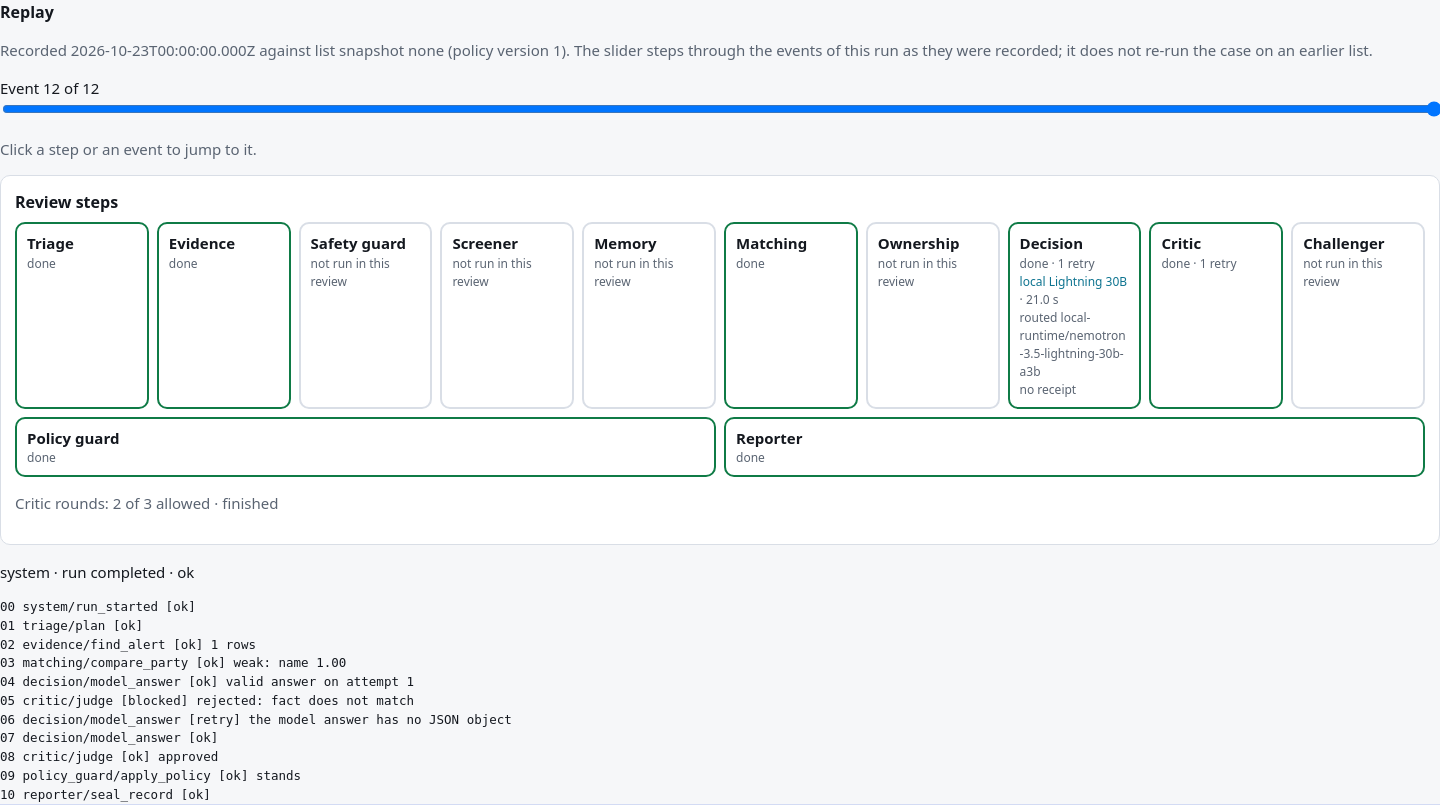
Test case: Replay › replays the run as of any event: the steps and the line shown follow the slider
Set the slider labelled "Event 12 of 12" to "4" at (484, 109), box [2,101,1439,117]
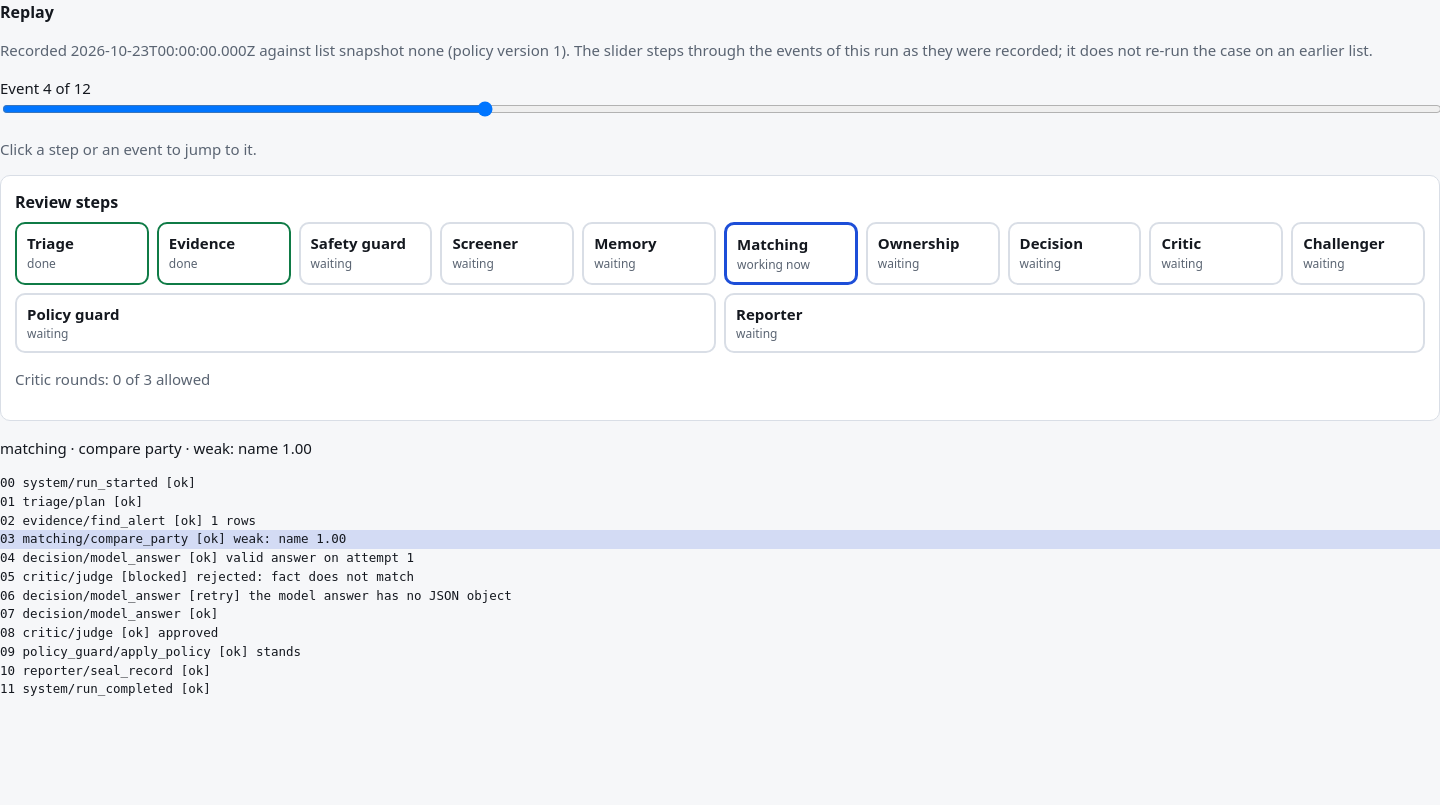
Now the text with test id "replay-current" shows "matching", box [0,438,312,458]
Set the slider named "Event 12 of 12" to "0" at (10, 109), box [2,101,1439,117]
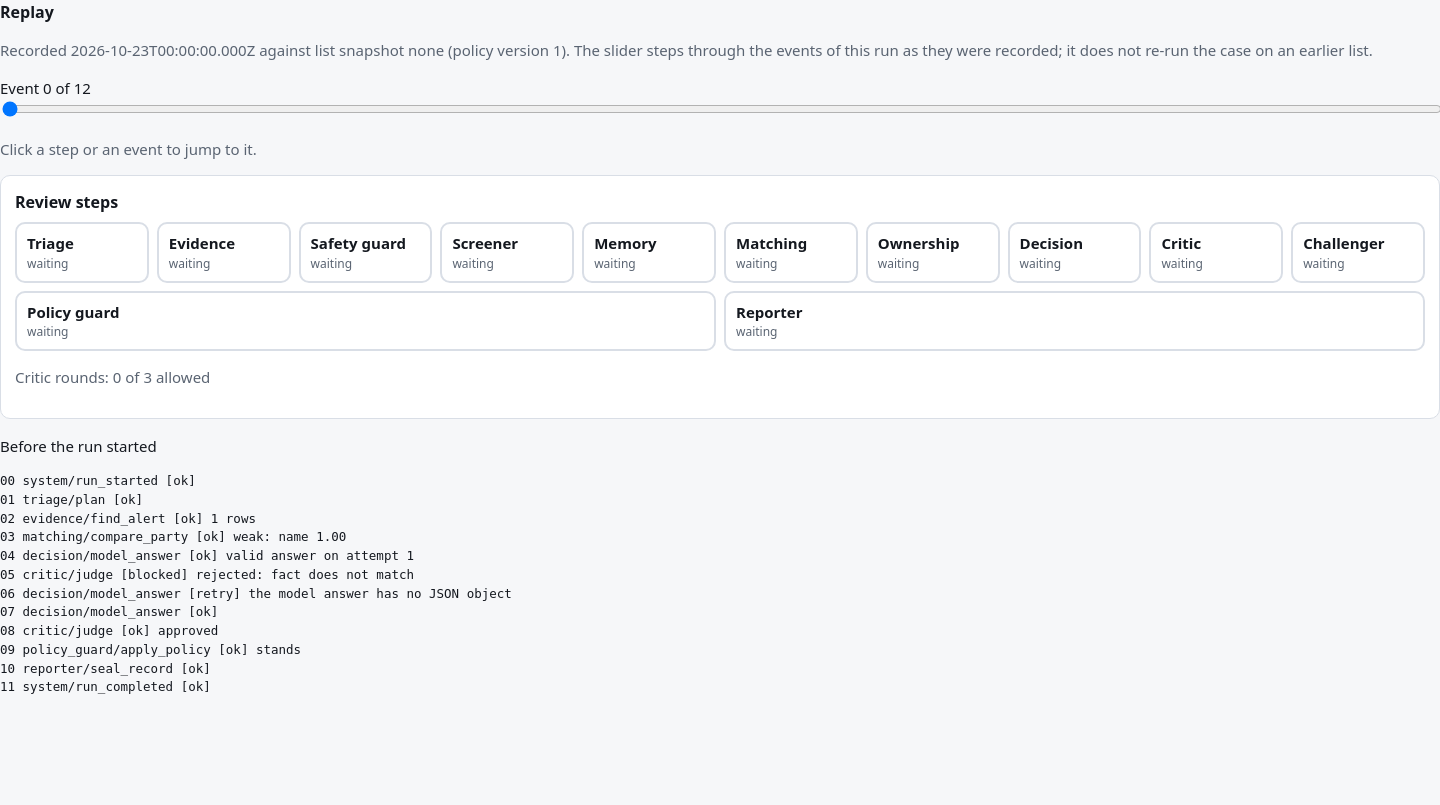
Now the text with test id "replay-current" reads "Before the run started", box [0,436,157,456]
